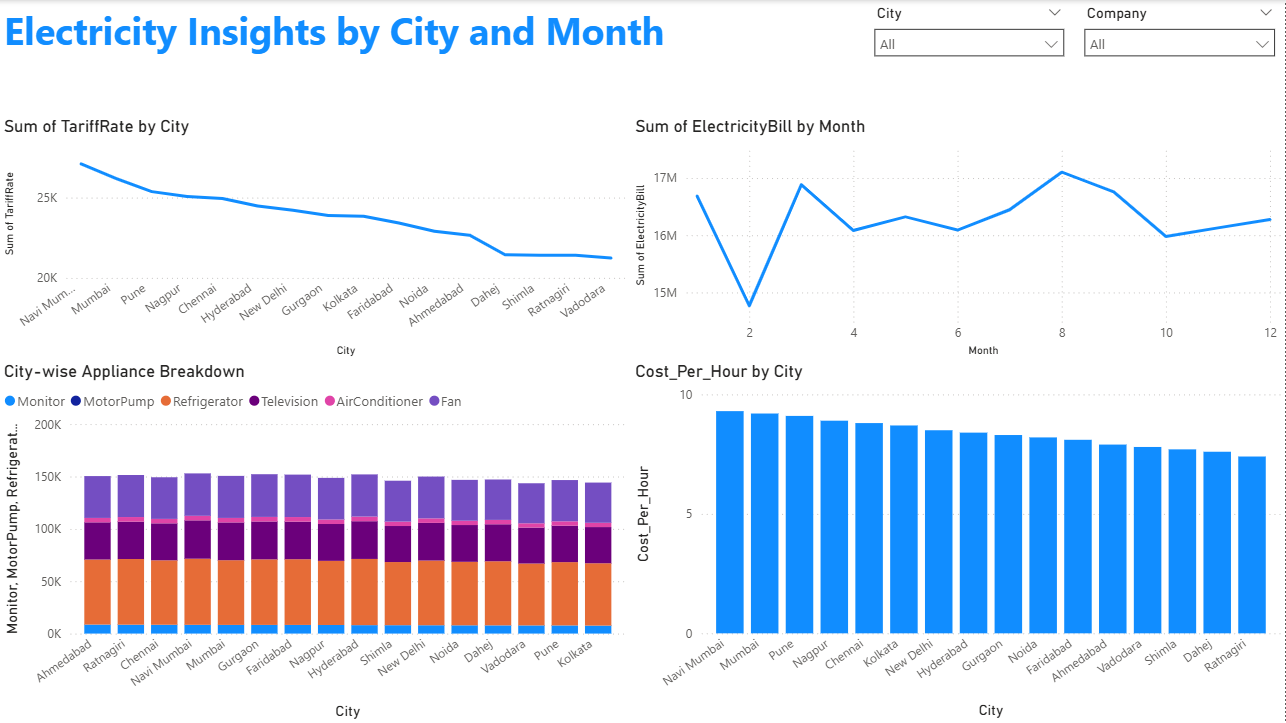

What the dashboard file says about the page in this screenshot:
{"tool":"powerbi","page":{"name":"Electricity Insights by City and Month","canvas":[1280,720],"ordinal":1},"visuals":[{"type":"columnChart","title":"City-wise Appliance Breakdown","fields":{"Category":["electricity.City"],"Y":["Sum(electricity.Monitor)","Sum(electricity.MotorPump)","Sum(electricity.Refrigerator)","Sum(electricity.Television)","Sum(electricity.AirConditioner)","Sum(electricity.Fan)"]},"box":[0,359.5,628.2,360.7],"z":0},{"type":"columnChart","fields":{"Category":["electricity.City"],"Y":["electricity.Cost_Per_Hour"]},"box":[628.2,359.5,651.8,360.7],"z":1},{"type":"lineChart","fields":{"Category":["electricity.City"],"Y":["Sum(electricity.TariffRate)"]},"box":[0,115.7,628.2,243.8],"z":2},{"type":"lineChart","fields":{"Category":["electricity.Month"],"Y":["Sum(electricity.ElectricityBill)"]},"box":[628.2,115.7,651.8,243.8],"z":3},{"type":"textbox","box":[0,0,860.8,115.7],"z":4},{"type":"slicer","fields":{"Values":["electricity.City"]},"box":[860.8,0,209,82.1],"z":5},{"type":"slicer","fields":{"Values":["electricity.Company"]},"box":[1069.8,0,210.2,58.5],"z":7}]}

Visuals, with their boxes in screenshot pixels (x1, y1, x2, y2), scaled from the page's 1280x720 canvas onto the 1286x723 screenshot:
"City-wise Appliance Breakdown" columnChart: x1=0, y1=361, x2=631, y2=722
columnChart - electricity.City x electricity.Cost_Per_Hour: x1=631, y1=361, x2=1285, y2=722
lineChart - electricity.City x Sum(electricity.TariffRate): x1=0, y1=116, x2=631, y2=361
lineChart - electricity.Month x Sum(electricity.ElectricityBill): x1=631, y1=116, x2=1285, y2=361
textbox: x1=0, y1=0, x2=865, y2=116
slicer - electricity.City: x1=865, y1=0, x2=1075, y2=82
slicer - electricity.Company: x1=1075, y1=0, x2=1285, y2=59
